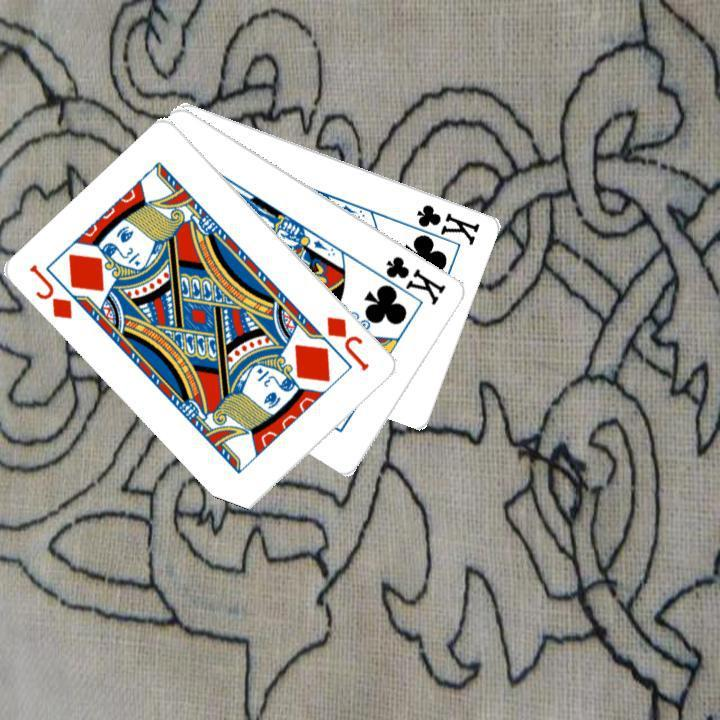J: (25, 260, 75, 322), (322, 312, 372, 373)
K: (368, 251, 449, 308), (401, 199, 482, 250)
